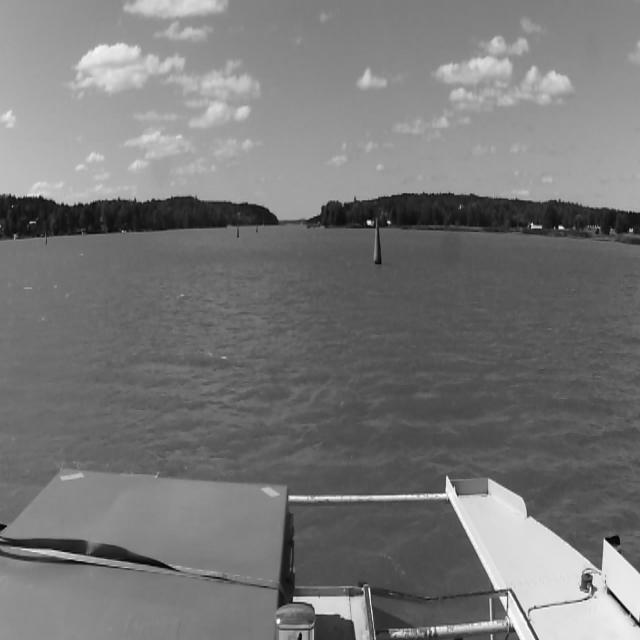buoy: (370, 214, 384, 268), (254, 218, 258, 234), (44, 232, 48, 247), (236, 225, 240, 238)
